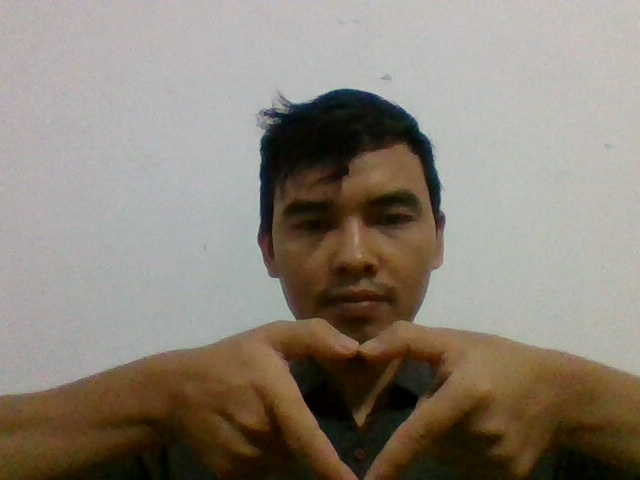iloveyou: (221, 305, 489, 478)
